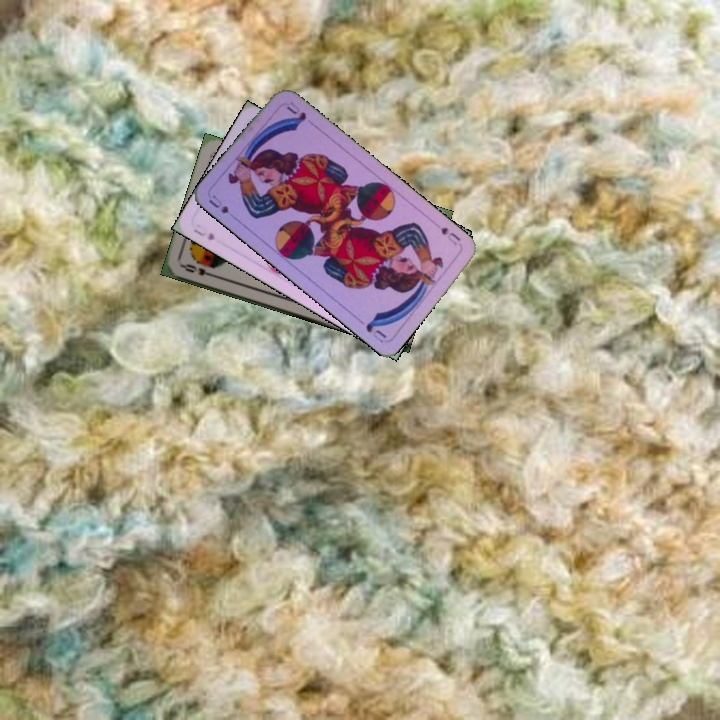SO: (178, 260, 218, 280)
SU: (205, 191, 241, 223), (437, 223, 464, 249), (189, 224, 218, 243)
